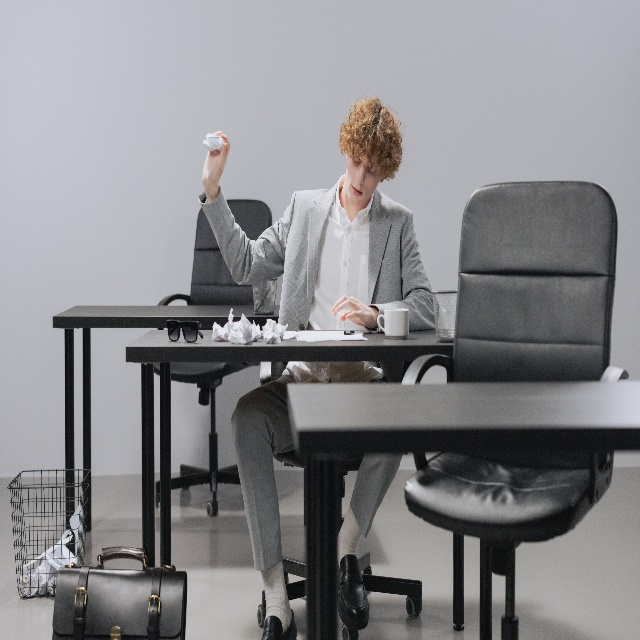Gafas: (166, 318, 204, 343)
Sin_guantes: (201, 131, 231, 190), (331, 295, 377, 329)
